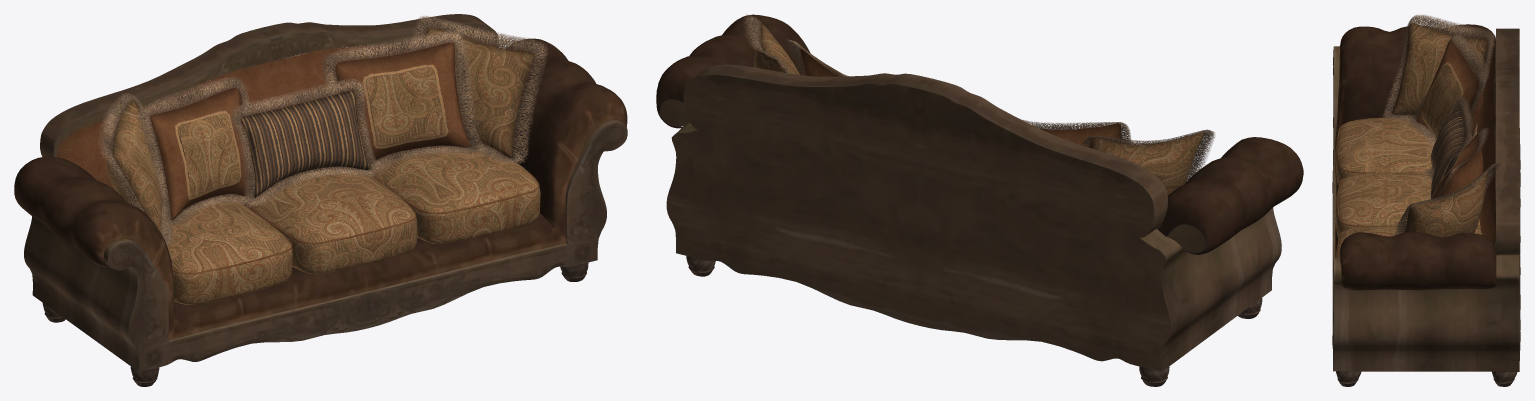
File: sofa_leder.gltf
3 views of the same model, side by side, from view 1: azimuth 30°, elevation 25°; view 2: azimuth 150°, elevation 25°; view 3: azimuth 270°, elevation 25° (orthographic). The views are drawn at different scales.
Visible parts, largest first — view 1: Frame, Paisley, Fringe, Brown, Stripes, Frame_Fabric; view 2: Frame, Paisley, Fringe, Brown; view 3: Frame, Paisley, Fringe, Brown, Frame_Fabric, Stripes.
Boxes of the visible parts, x1,y1,x2,y2 form: Frame: (14, 14, 627, 386); Paisley: (107, 27, 540, 304); Fringe: (98, 16, 547, 246); Brown: (150, 42, 539, 274); Stripes: (174, 64, 448, 199); Frame_Fabric: (57, 34, 494, 190); Frame: (656, 14, 1303, 386); Paisley: (754, 23, 1204, 194); Fringe: (743, 14, 1215, 181); Brown: (800, 46, 1121, 146); Frame: (1332, 24, 1520, 386); Paisley: (1335, 23, 1487, 257); Fringe: (1382, 14, 1499, 235); Brown: (1337, 40, 1483, 257); Frame_Fabric: (1477, 39, 1495, 245); Stripes: (1422, 61, 1472, 198).
Size of the model in its own units: 2.73 by 1.12 by 0.9232.
Materials: 6 (6 with a texture image).
